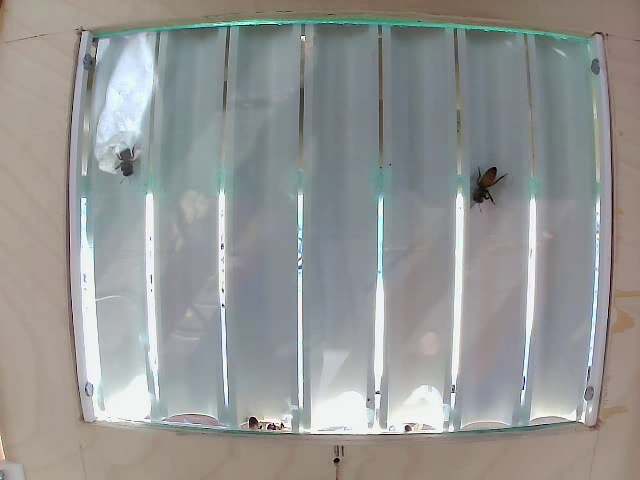bee: (471, 165, 503, 215), (114, 144, 147, 184)
